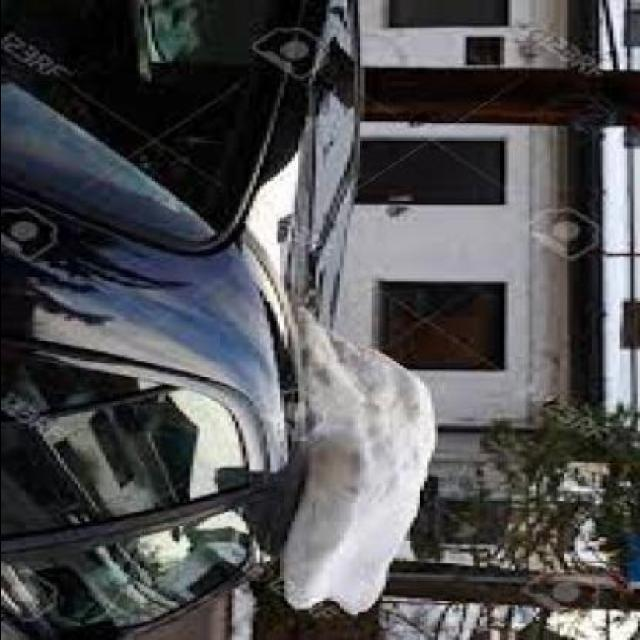roof-dent: (227, 0, 371, 426)
